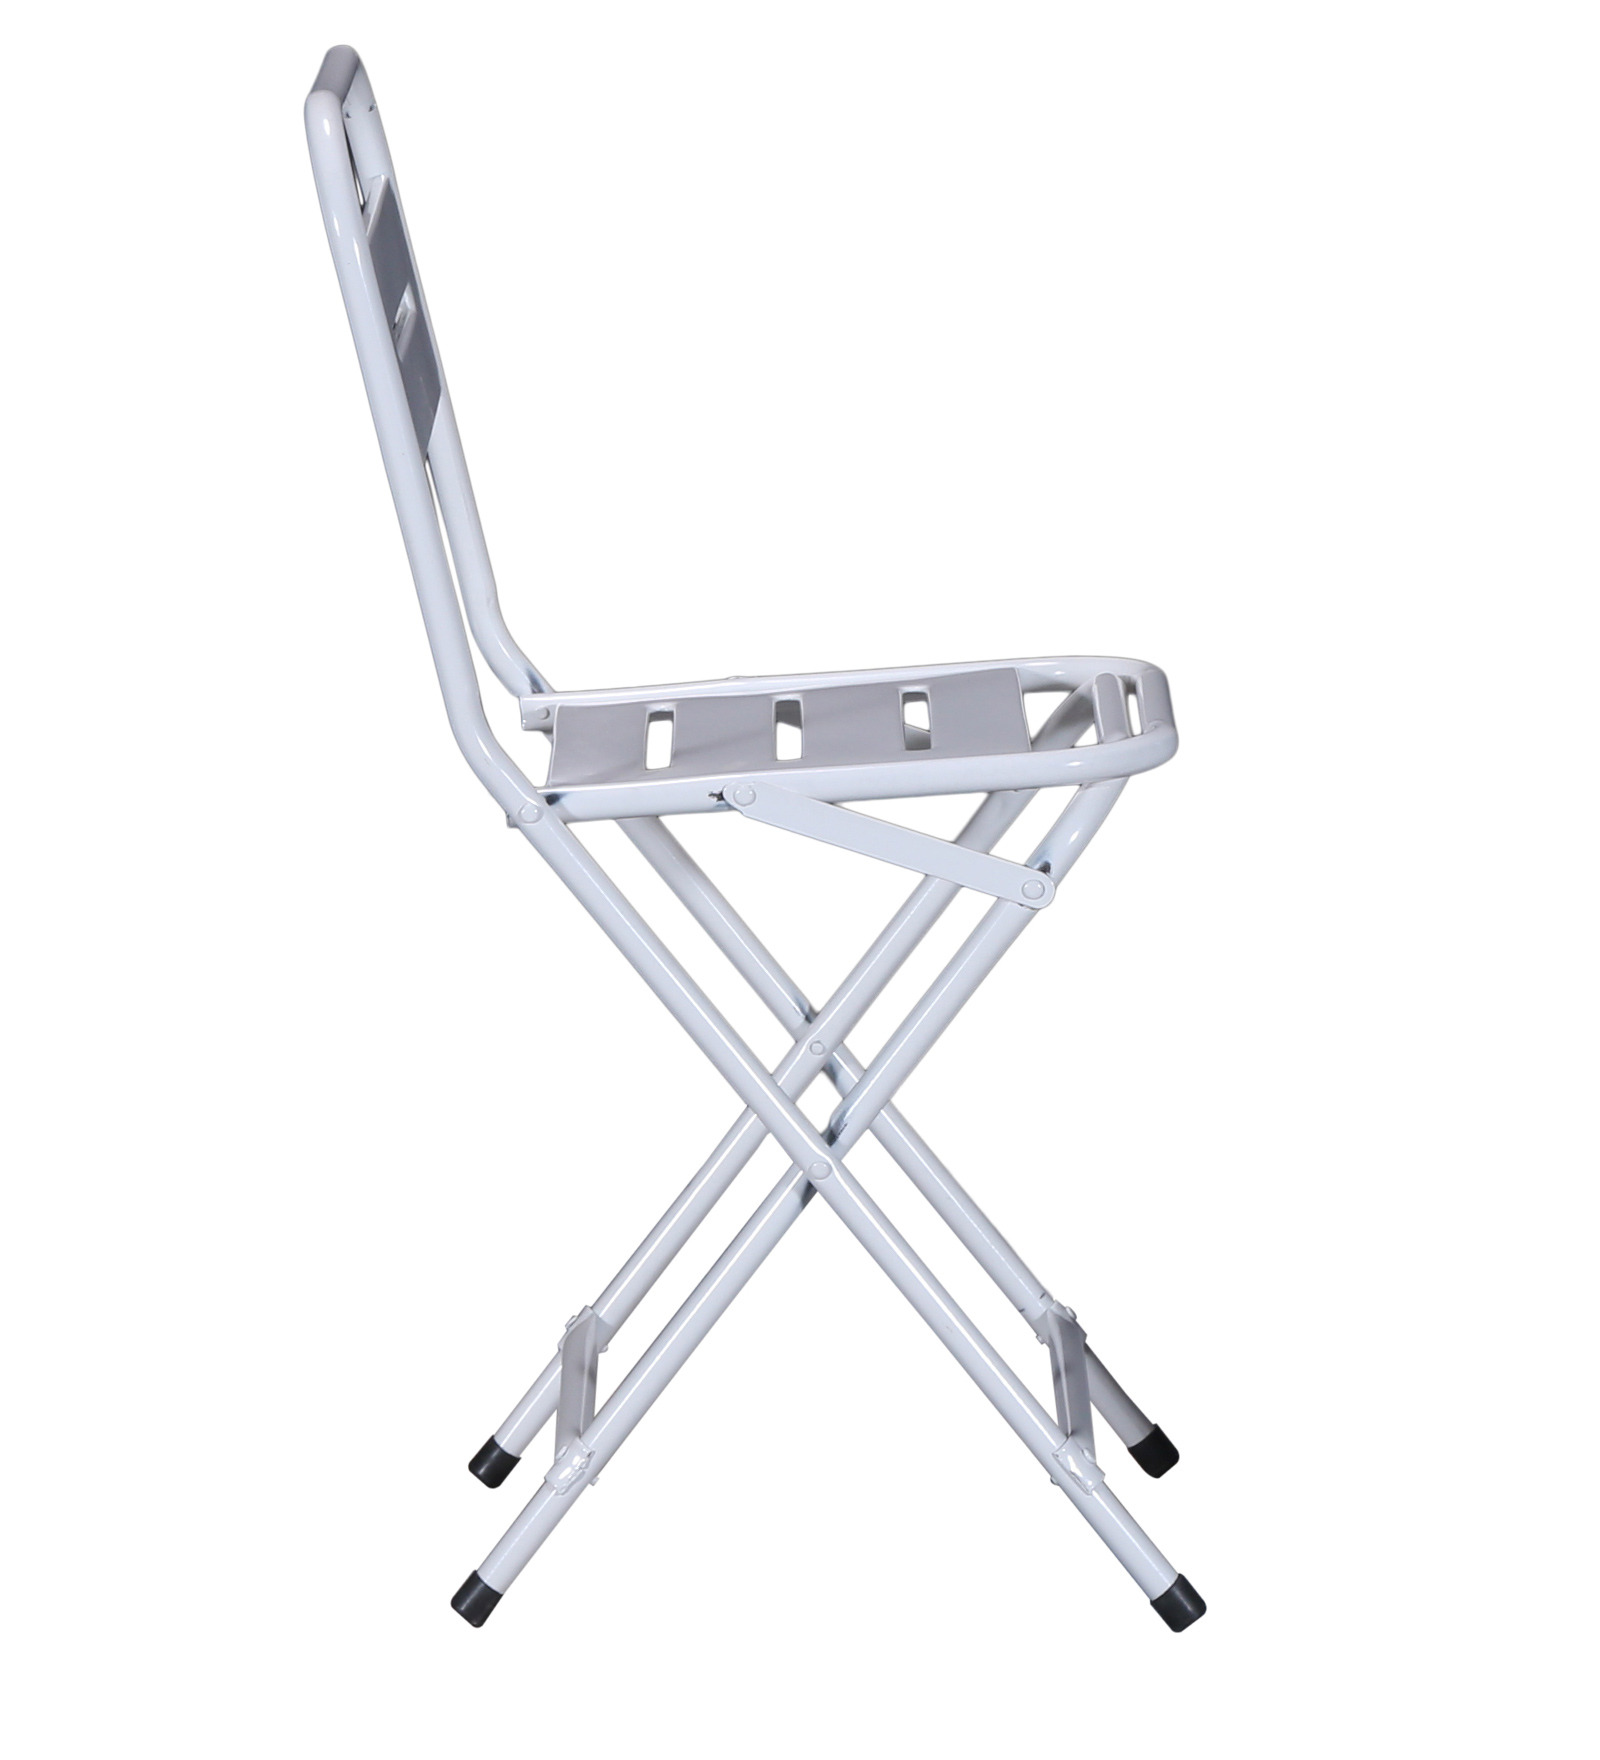Marandoo Grunge White Outdoor Folding Chair by Bohemiana: (274, 35, 1257, 1637)
